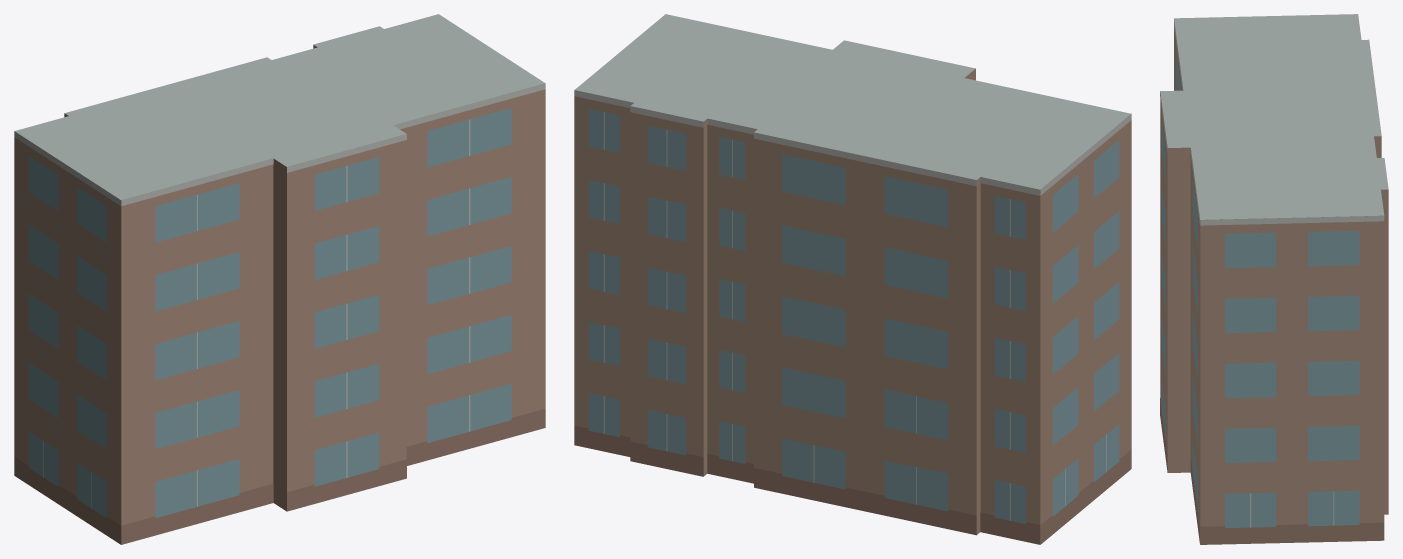
File: survey-upis-33035576.glb
3 views of the same model, side by side, from view 1: azimuth 30°, elevation 25°; view 2: azimuth 150°, elevation 25°; view 3: azimuth 270°, elevation 25° (orthographic). The views are drawn at different scales.
Parts seen in each view (by area): view 1: survey-upis-33035576.tmp; view 2: survey-upis-33035576.tmp; view 3: survey-upis-33035576.tmp.
Boxes of the visible parts, left/top/right/bottom form: survey-upis-33035576.tmp: left=14, top=14, right=545, bottom=544; survey-upis-33035576.tmp: left=574, top=14, right=1131, bottom=544; survey-upis-33035576.tmp: left=1160, top=14, right=1388, bottom=544.
Size of the model in its own units: 19.03 by 14 by 8.93.
